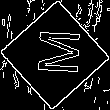M_W: (28, 30, 82, 80)
